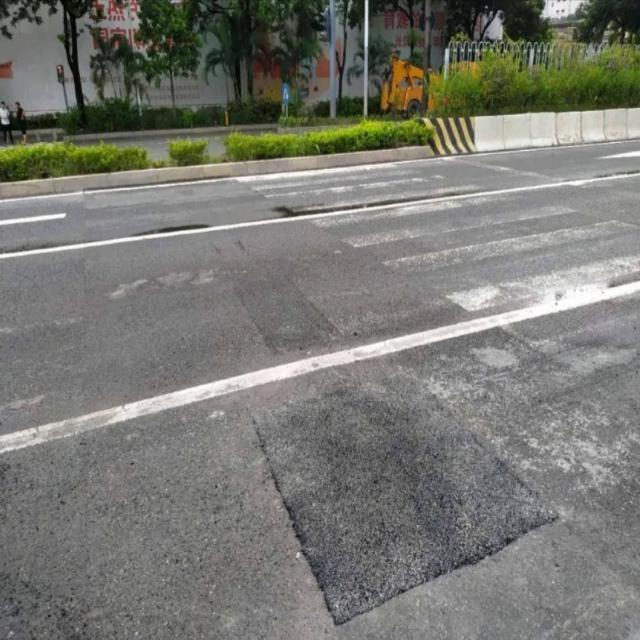pothole: (239, 361, 563, 624)
